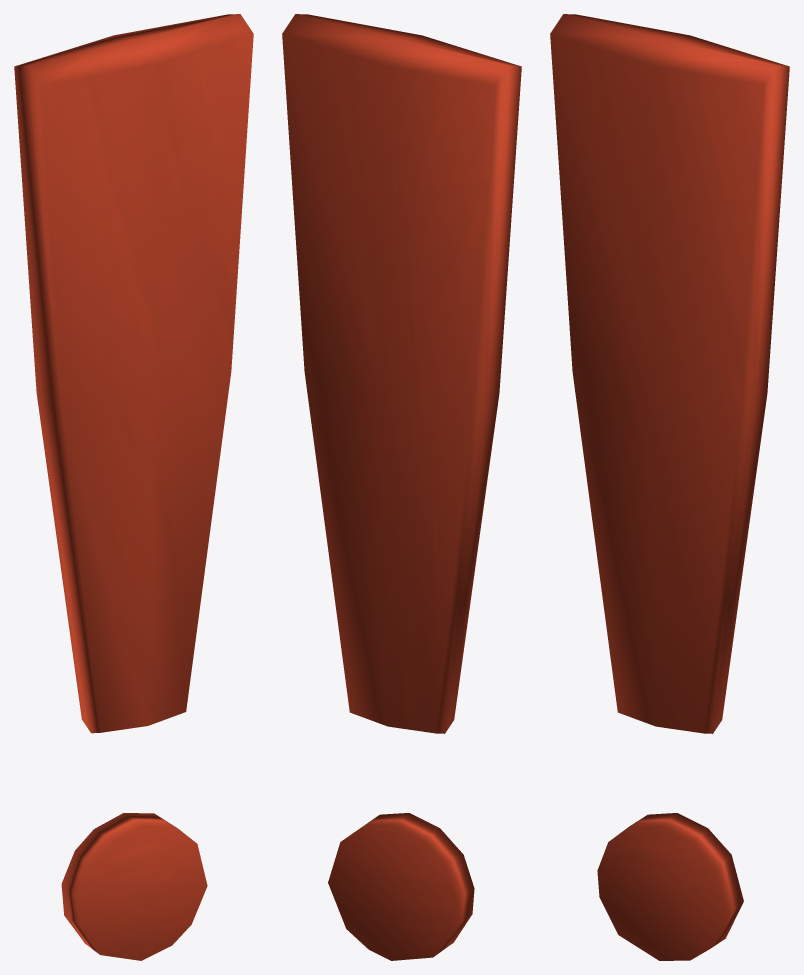
The model's file is ExclamationMark.fbx.
3 views of the same model, side by side, from view 1: azimuth 30°, elevation 25°; view 2: azimuth 150°, elevation 25°; view 3: azimuth 330°, elevation 25° (orthographic).
Visible parts, largest first — view 1: Huutomerkki; view 2: Huutomerkki; view 3: Huutomerkki.
Part boxes in pixels (x1=…): Huutomerkki: x1=14, y1=14, x2=253, y2=960; Huutomerkki: x1=282, y1=14, x2=521, y2=960; Huutomerkki: x1=550, y1=14, x2=789, y2=960.
Size of the model in its own units: 179 by 733 by 58.75.
Materials: 1 (1 with a texture image).
